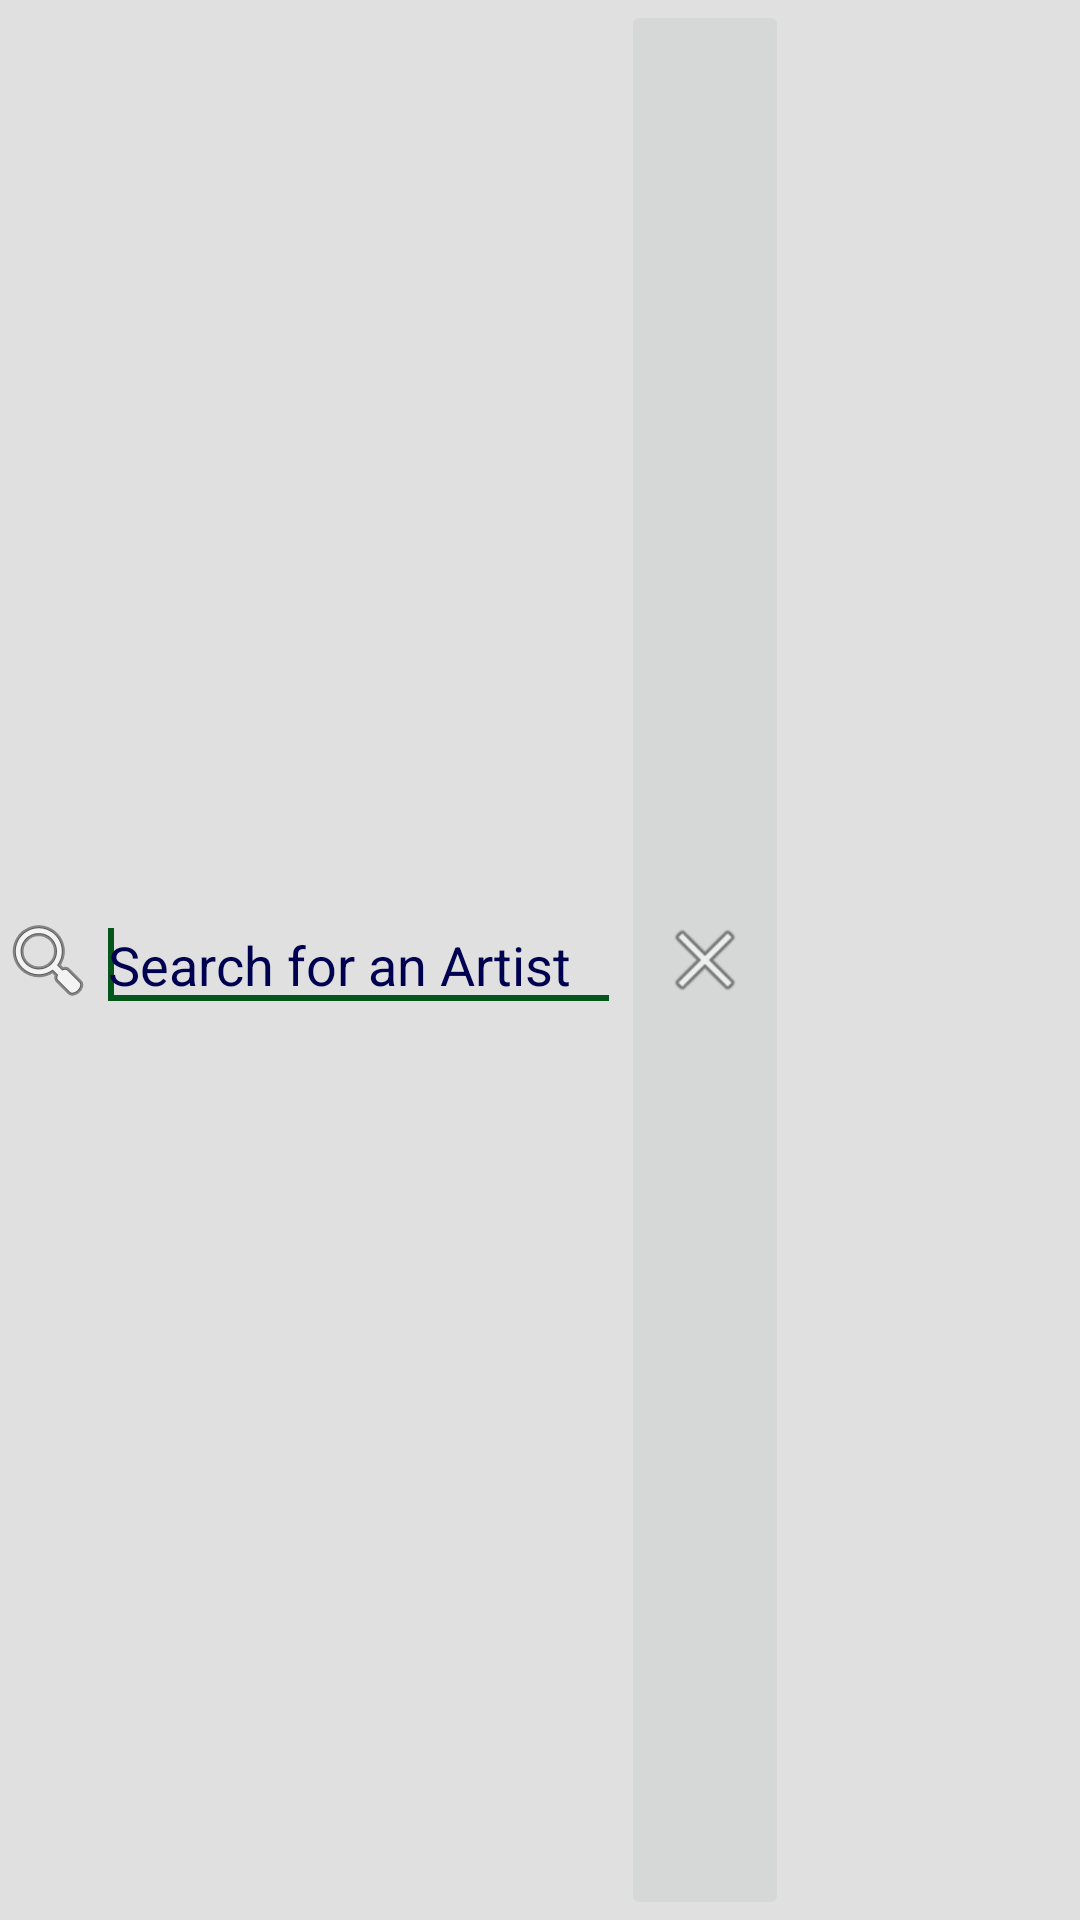

Icons on this 1080 × 1920 Android screen, each with the point to tap as [x,y]:
Click this image to search: [48,960]
